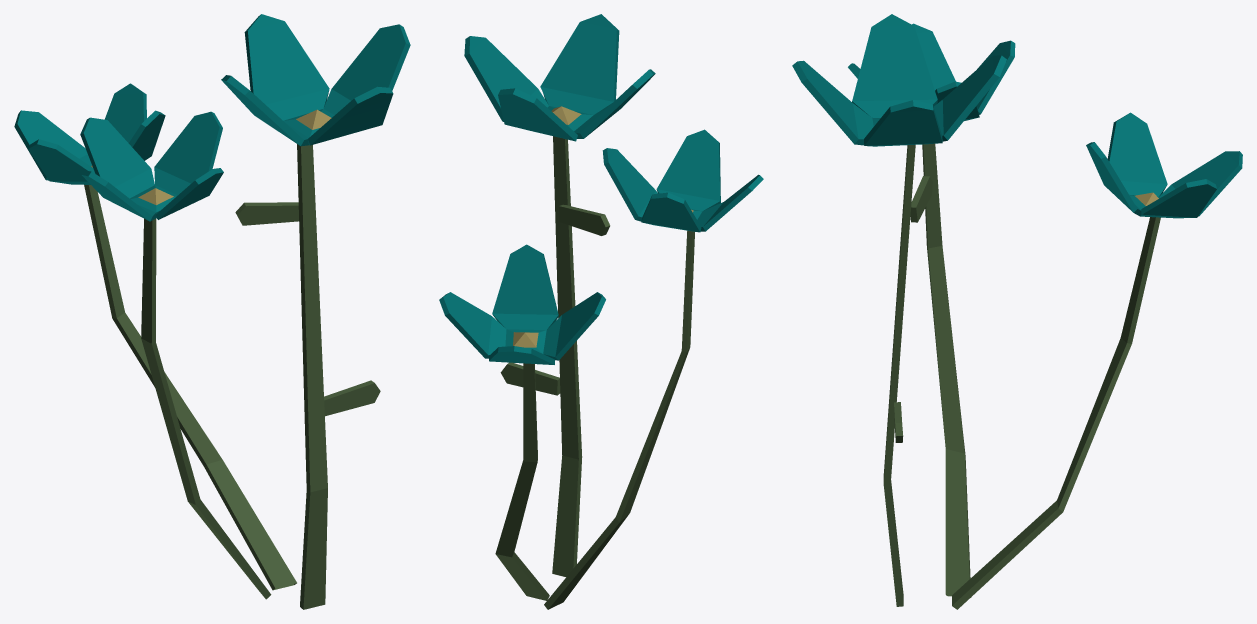
File: flowers.glb
3 renders of one model, left to right at view 1: azimuth 30°, elevation 25°; view 2: azimuth 150°, elevation 25°; view 3: azimuth 270°, elevation 25°, orthographic. The views are drawn at different scales.
Parts seen in each view (by area): view 1: Flowers; view 2: Flowers; view 3: Flowers.
Part boxes in pixels (box(x1,y1,x2,y2)): Flowers: box(14, 14, 410, 609); Flowers: box(439, 14, 763, 609); Flowers: box(792, 14, 1242, 609).
Bounding box in the file's own units: 0.4895 × 0.8289 × 0.6137.
